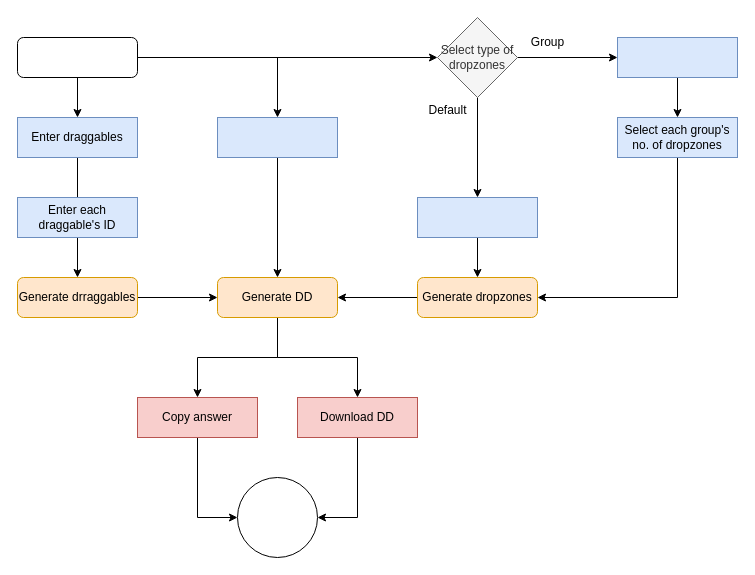
Some shapes in this 755 by 575 pixel diagram are drawn without their labels. The box of each missing label's shape, as (x1, y1, x2, y2) in pixels:
Enter dropzones: (416, 196, 538, 238)
Enter frame height: (216, 116, 338, 158)
Enter group names: (616, 36, 738, 78)
Start: (16, 36, 138, 78)
Stop: (236, 476, 318, 558)
